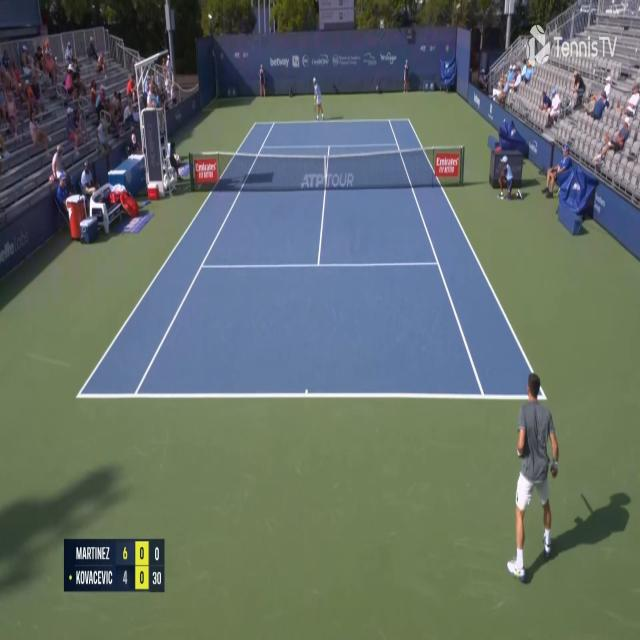tennis-player: (506, 368, 563, 586), (310, 75, 325, 122)
